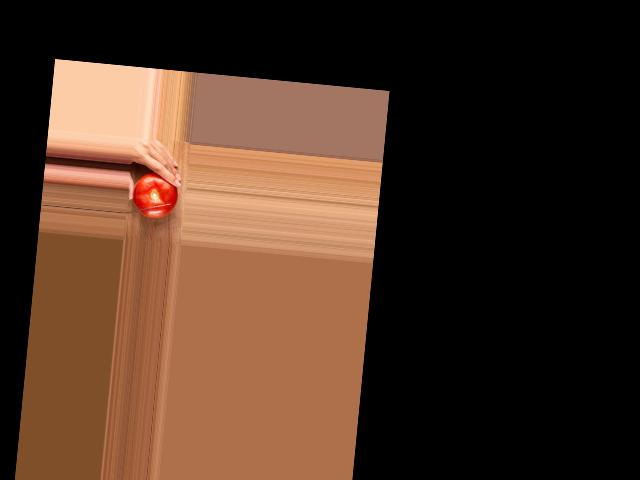tomato: (131, 170, 179, 219)
